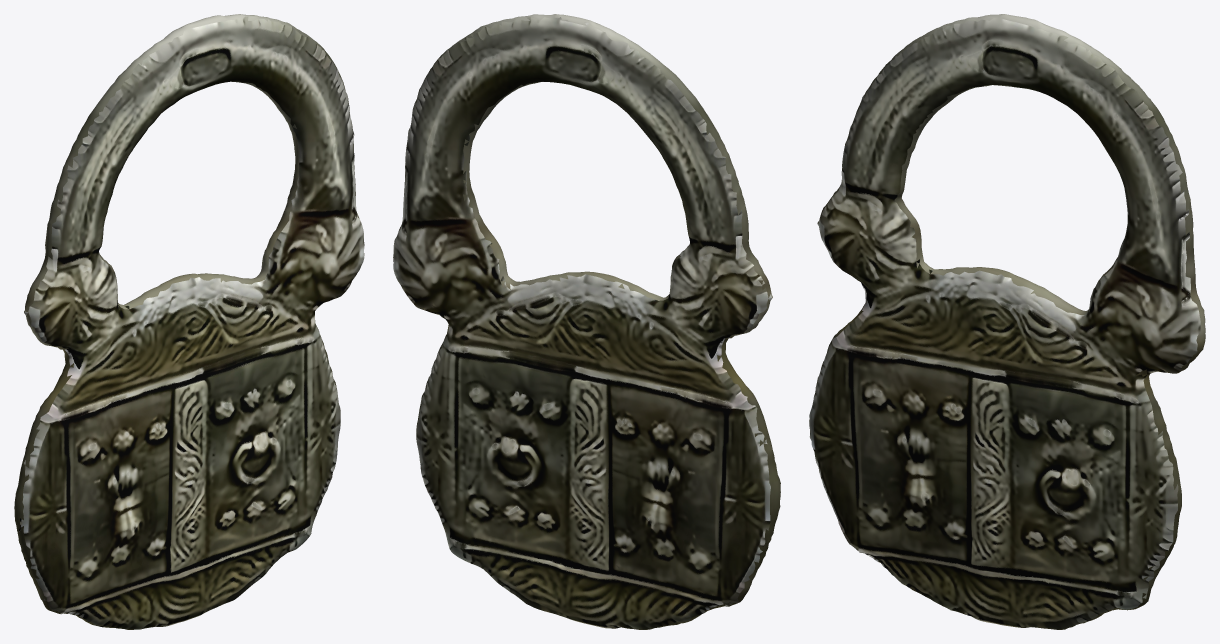
File: kfl-2259.glb
3 views of the same model, side by side, from view 1: azimuth 30°, elevation 25°; view 2: azimuth 150°, elevation 25°; view 3: azimuth 330°, elevation 25° (orthographic). The views are drawn at different scales.
Visible parts, largest first — view 1: kfl-2259; view 2: kfl-2259; view 3: kfl-2259.
Part boxes in pixels (box(x1,y1,x2,y2)): kfl-2259: box(14, 14, 364, 629); kfl-2259: box(393, 14, 780, 629); kfl-2259: box(809, 14, 1205, 629).
Size of the model in its own units: 0.6345 by 0.9921 by 0.0919.
Materials: 4 (4 with a texture image).
